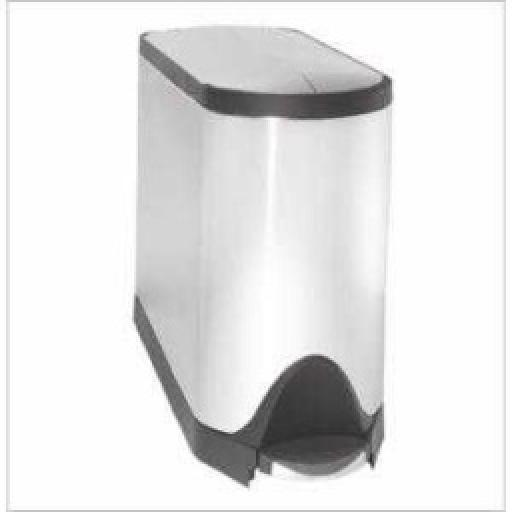trash-can: (123, 3, 401, 489)
